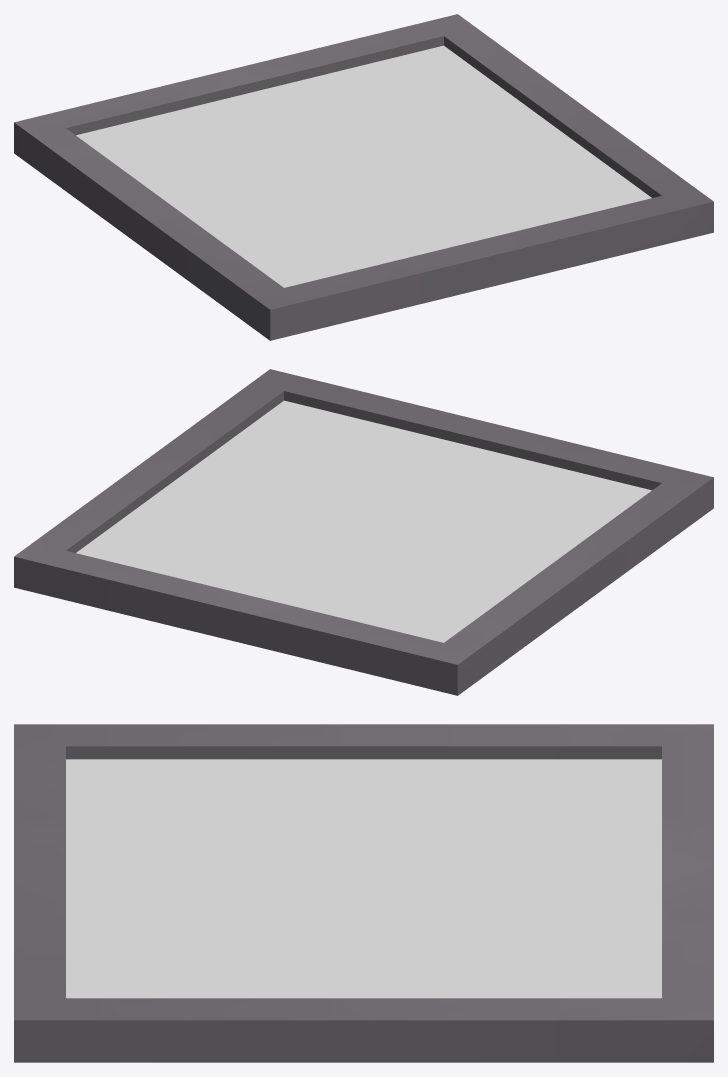
File: Washing_machine_d_03.glb
3 renders of one model, top to bottom at view 1: azimuth 30°, elevation 25°; view 2: azimuth 150°, elevation 25°; view 3: azimuth 270°, elevation 25°, orthographic. The views are drawn at different scales.
Parts seen in each view (by area): view 1: Washing_machine_d_03; view 2: Washing_machine_d_03; view 3: Washing_machine_d_03.
Boxes of the visible parts, bbox=[...] form: Washing_machine_d_03: bbox=[14, 14, 713, 340]; Washing_machine_d_03: bbox=[14, 369, 713, 695]; Washing_machine_d_03: bbox=[14, 724, 713, 1062].
Bounding box in the file's own units: 0.6504 × 0.0434 × 0.6504.
2 materials, 1 textured.
